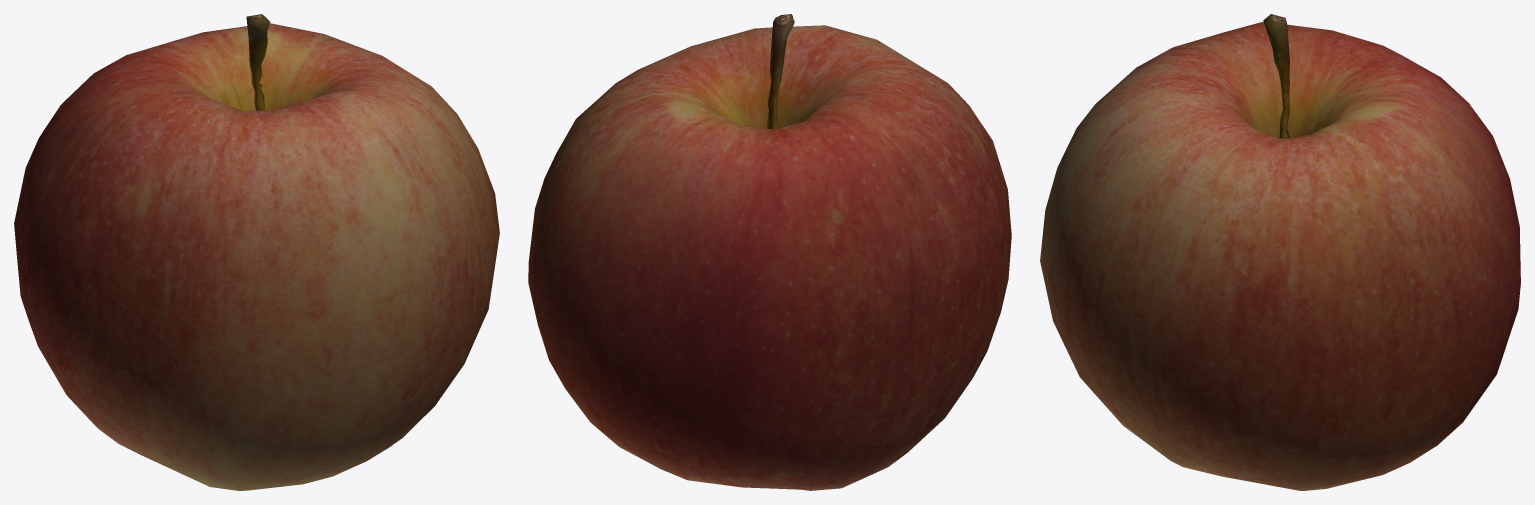
3 renders of one model, left to right at view 1: azimuth 30°, elevation 25°; view 2: azimuth 150°, elevation 25°; view 3: azimuth 270°, elevation 25°, orthographic.
Parts seen in each view (by area): view 1: apple03_lr; view 2: apple03_lr; view 3: apple03_lr.
Part boxes in pixels (x1,y1,x2,y2): apple03_lr: (14, 14, 499, 490); apple03_lr: (528, 14, 1011, 490); apple03_lr: (1040, 14, 1520, 490).
Bounding box in the file's own units: 0.9951 × 0.9845 × 0.9934.
1 material, 1 textured.
